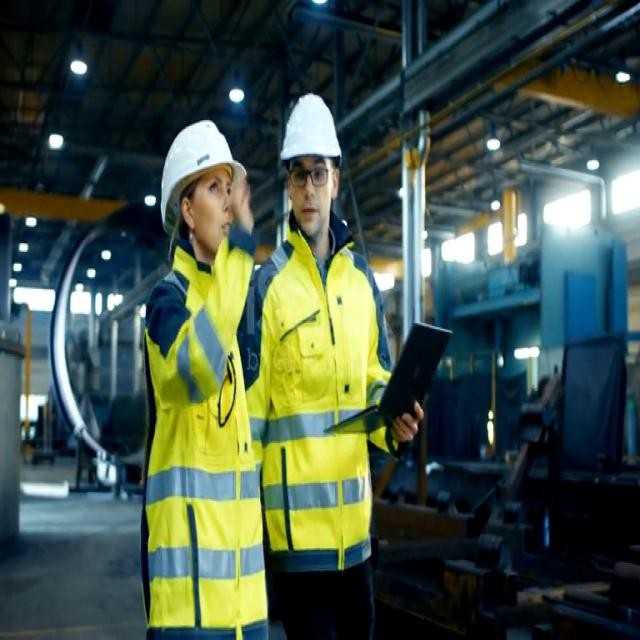capacete: (144, 103, 259, 226), (270, 62, 350, 184)
